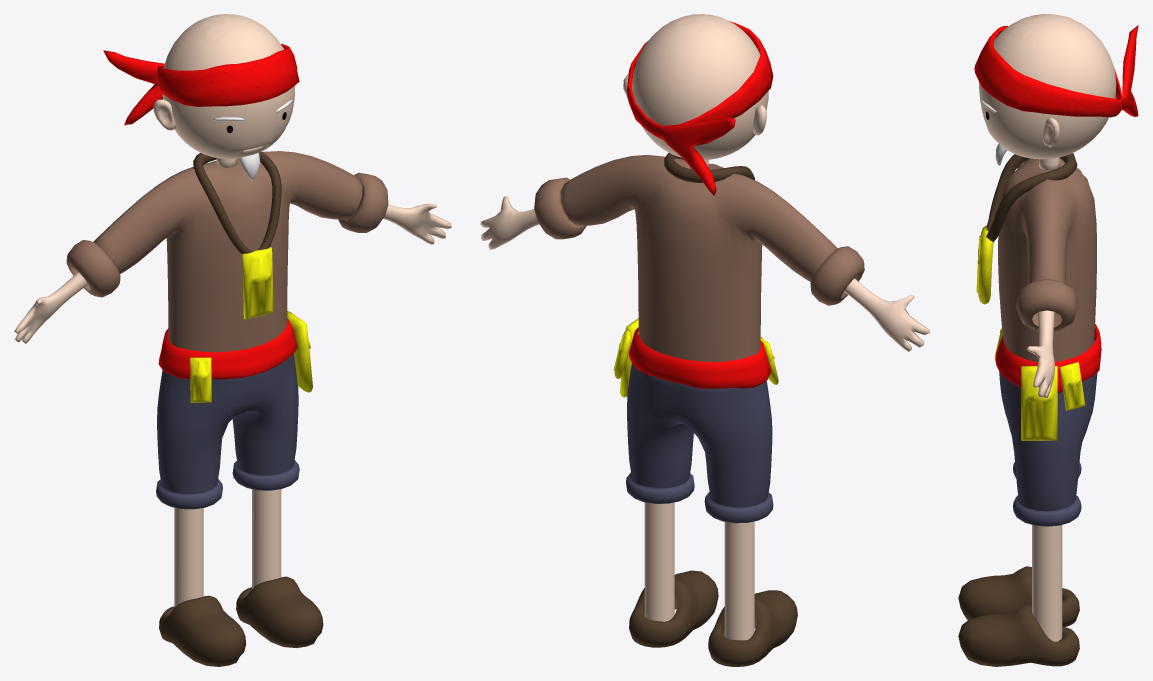
The model's file is cacascascas.fbx.
The picture shows the model from 3 angles, left to right: view 1: azimuth 30°, elevation 25°; view 2: azimuth 150°, elevation 25°; view 3: azimuth 270°, elevation 25°; orthographic projection. The views are drawn at different scales.
Visible parts, largest first — view 1: CLOTH-TOP, CLOTH-BOTTOM.001, HEAD.001, SHOES.001, HEADBAND, LEGS.001, BELT.001, HAND, LACE, AGIMAT-1.001, AGIMAT-3.001, AGIMAT-2.001; view 2: CLOTH-TOP, CLOTH-BOTTOM.001, HEAD.001, SHOES.001, LEGS.001, HEADBAND, BELT.001, HAND, LACE; view 3: CLOTH-TOP, HEAD.001, SHOES.001, CLOTH-BOTTOM.001, HEADBAND, LEGS.001, AGIMAT-3.001, LACE, BELT.001, HAND, AGIMAT-1.001, AGIMAT-4.001 (+1 smaller).
Part boxes in pixels (x1,y1,x2,y2): CLOTH-TOP: [66, 151, 388, 352]; CLOTH-BOTTOM.001: [156, 353, 299, 509]; HEAD.001: [162, 14, 294, 158]; SHOES.001: [159, 576, 323, 666]; HEADBAND: [103, 44, 299, 125]; LEGS.001: [174, 489, 281, 607]; BELT.001: [158, 318, 297, 379]; HAND: [14, 203, 451, 343]; LACE: [193, 151, 281, 253]; AGIMAT-1.001: [242, 247, 273, 319]; AGIMAT-3.001: [287, 311, 312, 392]; AGIMAT-2.001: [190, 357, 211, 402]; CLOTH-TOP: [534, 155, 864, 362]; CLOTH-BOTTOM.001: [626, 363, 773, 523]; HEAD.001: [632, 14, 768, 159]; SHOES.001: [629, 570, 797, 666]; LEGS.001: [644, 502, 754, 640]; HEADBAND: [627, 21, 773, 195]; BELT.001: [628, 327, 771, 388]; HAND: [480, 196, 929, 351]; LACE: [664, 153, 754, 182]; CLOTH-TOP: [998, 158, 1096, 362]; HEAD.001: [979, 14, 1116, 159]; SHOES.001: [958, 566, 1079, 666]; CLOTH-BOTTOM.001: [999, 339, 1097, 526]; HEADBAND: [974, 25, 1138, 117]; LEGS.001: [1032, 525, 1062, 641]; AGIMAT-3.001: [1021, 366, 1057, 440]; LACE: [986, 153, 1077, 242]; BELT.001: [995, 324, 1101, 392]; HAND: [1026, 310, 1054, 398]; AGIMAT-1.001: [976, 225, 993, 304]; AGIMAT-4.001: [1059, 362, 1085, 410].
Bounding box in the file's own units: 316 × 422 × 111.
Materials: 17 (16 with a texture image).
